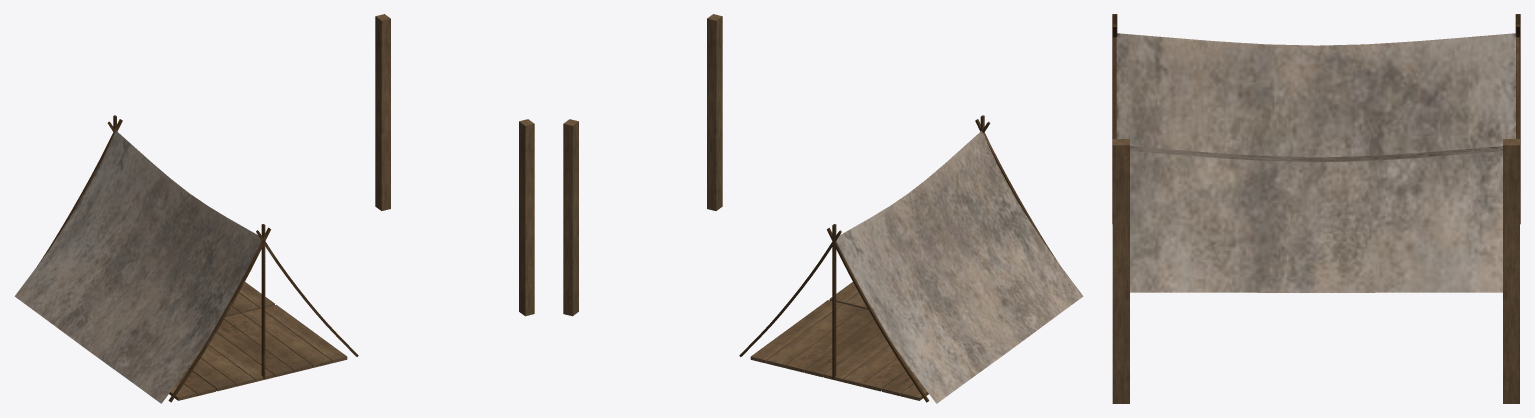
The model's file is SM_tent_08.glb.
3 views of the same model, side by side, from view 1: azimuth 30°, elevation 25°; view 2: azimuth 150°, elevation 25°; view 3: azimuth 270°, elevation 25° (orthographic). The views are drawn at different scales.
Visible parts, largest first — view 1: SM_tent_08; view 2: SM_tent_08; view 3: SM_tent_08.
Part boxes in pixels (x1,y1,x2,y2): SM_tent_08: (14, 14, 534, 403); SM_tent_08: (563, 14, 1083, 403); SM_tent_08: (1112, 14, 1520, 403).
Size of the model in its own units: 5.09 by 2.5 by 3.56.
2 materials, 2 textured.
